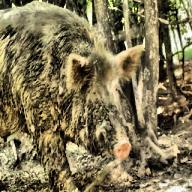boar: (0, 0, 145, 191)
